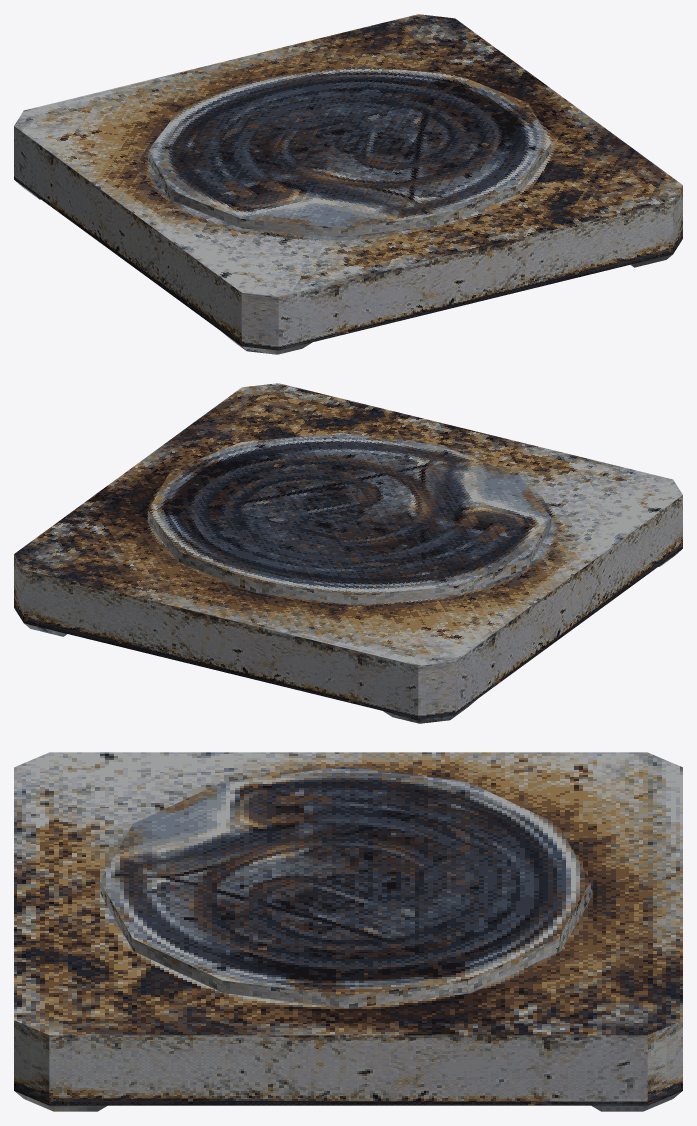
File: retro_burner.glb
The picture shows the model from 3 angles, top to bottom: view 1: azimuth 30°, elevation 25°; view 2: azimuth 150°, elevation 25°; view 3: azimuth 270°, elevation 25°; orthographic projection. The views are drawn at different scales.
Visible parts, largest first — view 1: Cube; view 2: Cube; view 3: Cube.
Boxes of the visible parts, x1,y1,x2,y2 form: Cube: (14, 14, 682, 354); Cube: (14, 383, 682, 723); Cube: (14, 752, 682, 1111).
Bounding box in the file's own units: 0.78 × 0.1198 × 0.78.
1 material, 1 textured.
